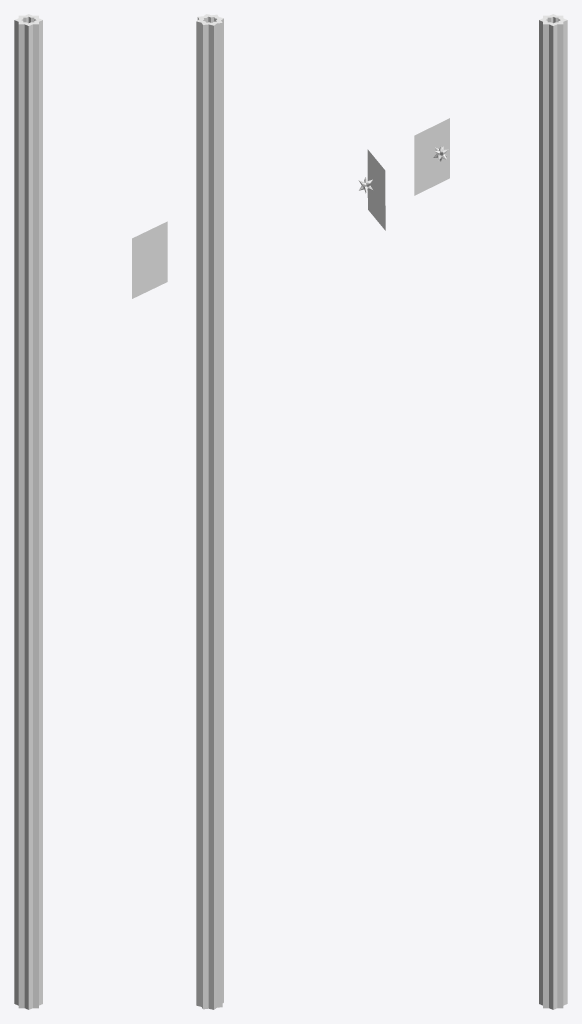
File: PlinthMoment_Animations_SacredLight.fbx
3 renders of one model, left to right at view 1: azimuth 90°, elevation 25°; view 2: azimuth 150°, elevation 25°; view 3: azimuth 270°, elevation 25°, orthographic.
Visible parts, largest first — view 1: starPlinthGlow, glow; view 2: starPlinthGlow, glow; view 3: starPlinthGlow, glow.
Boxes of the visible parts, x1,y1,x2,y2 form: starPlinthGlow: (14,14,42,1009); glow: (132,221,167,298); starPlinthGlow: (196,14,223,1009); glow: (367,149,385,230); starPlinthGlow: (539,14,567,1009); glow: (414,118,449,195).
Bounding box in the file's own units: 4.17 × 28.78 × 4.06.
